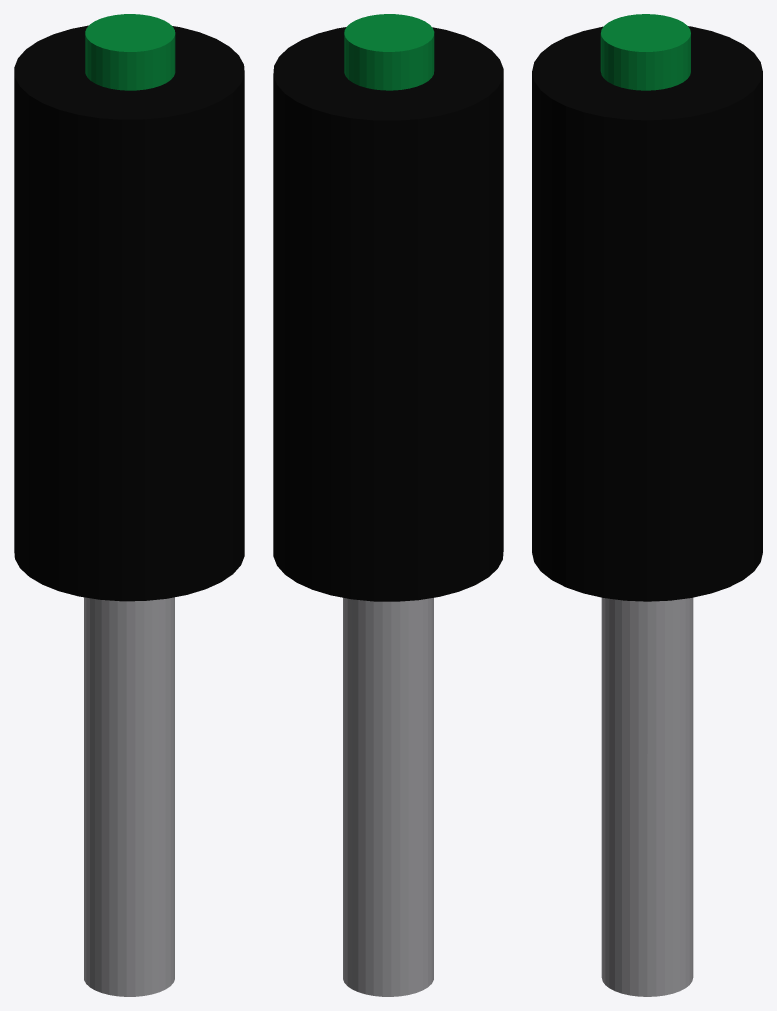
Rendered from jumper_cable_pin.fbx.
3 views of the same model, side by side, from view 1: azimuth 30°, elevation 25°; view 2: azimuth 150°, elevation 25°; view 3: azimuth 270°, elevation 25° (orthographic).
Visible parts, largest first — view 1: Cylinder, Cylinder.001, Cylinder.002; view 2: Cylinder, Cylinder.001, Cylinder.002; view 3: Cylinder, Cylinder.001, Cylinder.002.
Part boxes in pixels (x1,y1,x2,y2): Cylinder: (14,25,244,601); Cylinder.001: (84,597,174,996); Cylinder.002: (85,14,175,90); Cylinder: (273,27,503,601); Cylinder.001: (343,597,433,996); Cylinder.002: (344,14,434,90); Cylinder: (532,26,762,601); Cylinder.001: (601,597,693,996); Cylinder.002: (600,14,690,90).
Bounding box in the file's own units: 27.73 × 125 × 27.73.
